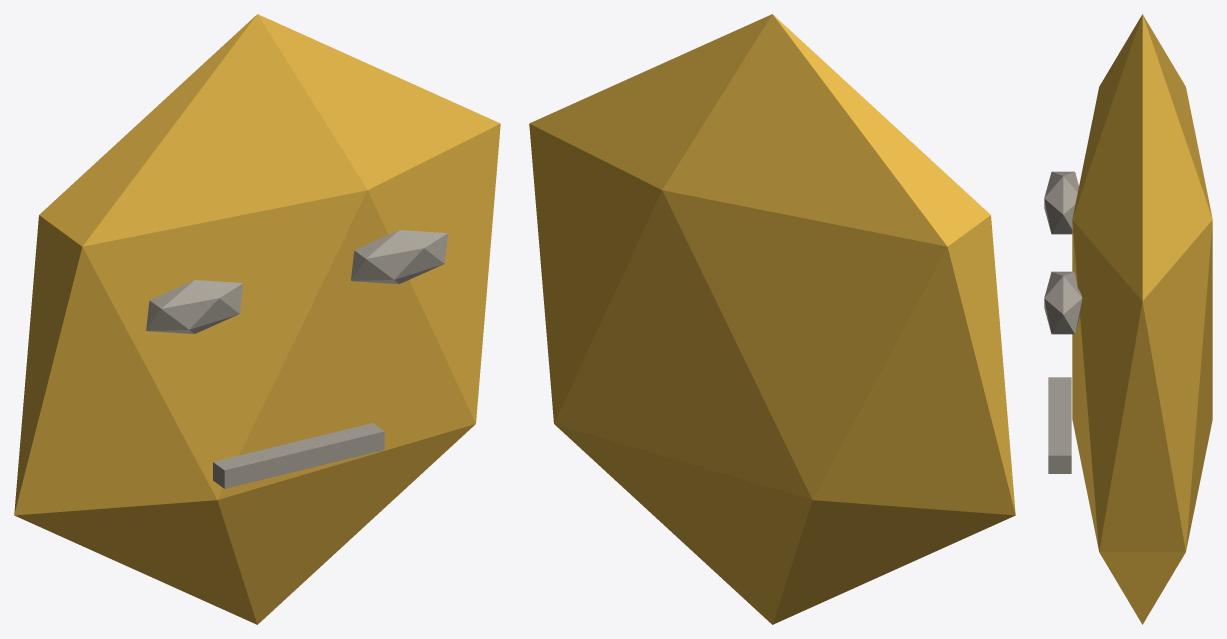
Rendered from reliquia_mascara.glb.
3 views of the same model, side by side, from view 1: azimuth 30°, elevation 25°; view 2: azimuth 150°, elevation 25°; view 3: azimuth 270°, elevation 25° (orthographic).
Parts seen in each view (by area): view 1: reliquia_mascara; view 2: reliquia_mascara; view 3: reliquia_mascara.
Boxes of the visible parts, x1,y1,x2,y2 form: reliquia_mascara: (14, 14, 500, 624); reliquia_mascara: (529, 14, 1015, 624); reliquia_mascara: (1044, 14, 1212, 624).
Bounding box in the file's own units: 2 × 2.4 × 0.6.
